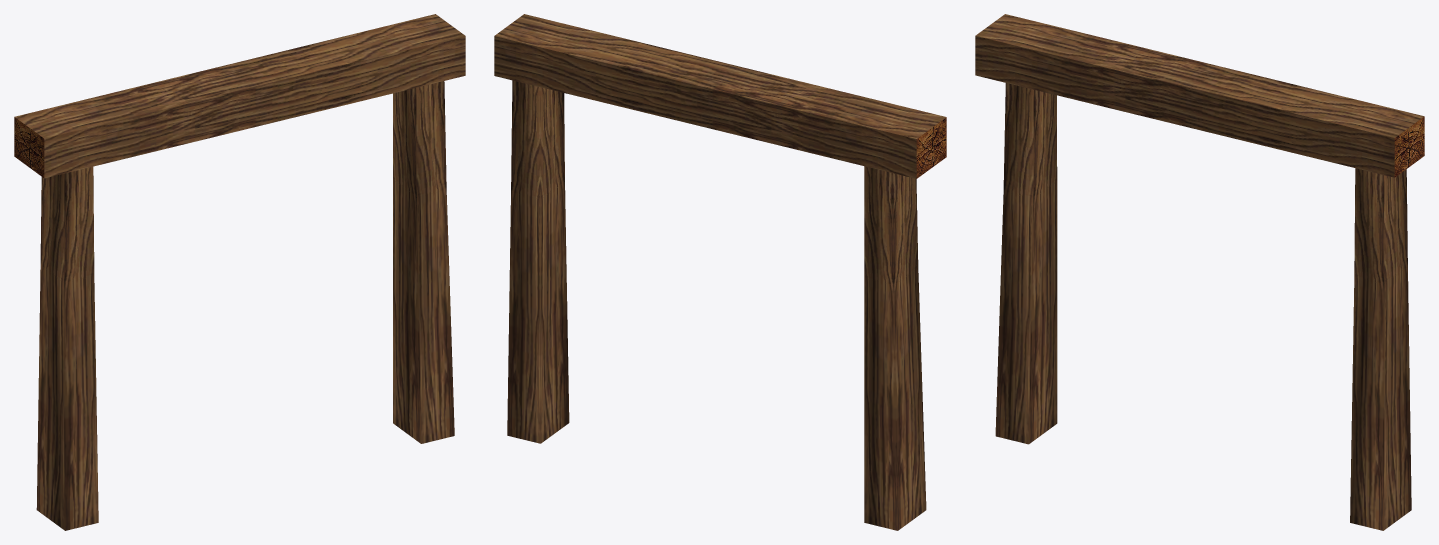
File: LAKETOWN_WAREHOUSE1_PS_WH1_DOORFRAME__GX.obj
3 renders of one model, left to right at view 1: azimuth 30°, elevation 25°; view 2: azimuth 150°, elevation 25°; view 3: azimuth 330°, elevation 25°, orthographic.
Parts seen in each view (by area): view 1: 1_DoorFrame__GX; view 2: 1_DoorFrame__GX; view 3: 1_DoorFrame__GX.
Part boxes in pixels (x1,y1,x2,y2): 1_DoorFrame__GX: (14,14,465,530); 1_DoorFrame__GX: (494,14,946,530); 1_DoorFrame__GX: (975,14,1424,530).
Size of the model in its own units: 328 by 295 by 40.78.
